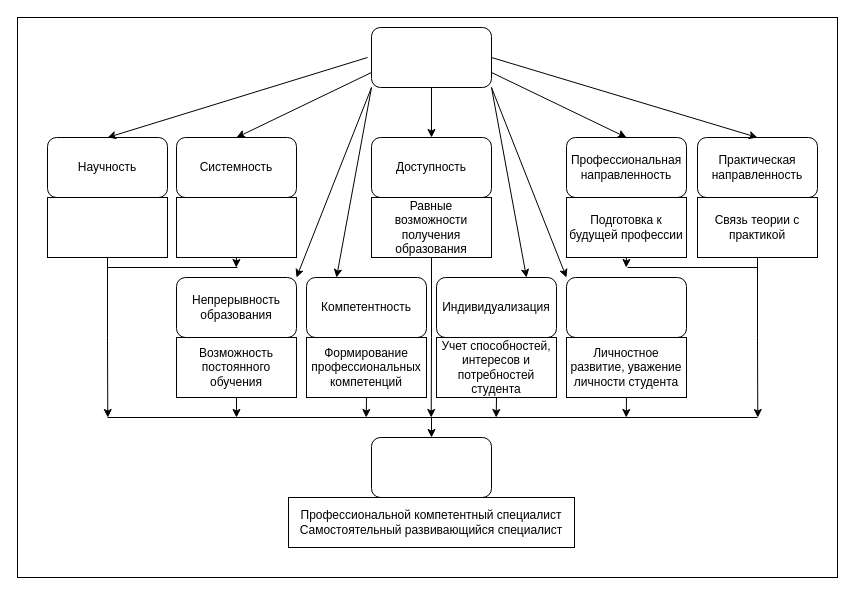
The diagram is 855 pixels wide and 595 high, and some of its shapes have lost their labels. The shapes that lost their labels are listed below. From the top down, each one's box as (x1, y1, x2, y2) in pixels, then its label:
(370, 26, 492, 88): Принципы формирования высшего образования
(46, 196, 168, 258): Связь с современными научными знаниями
(176, 196, 296, 258): Единство всех элементов образования
(566, 276, 686, 338): Гуманизация
(370, 436, 492, 498): Результат
